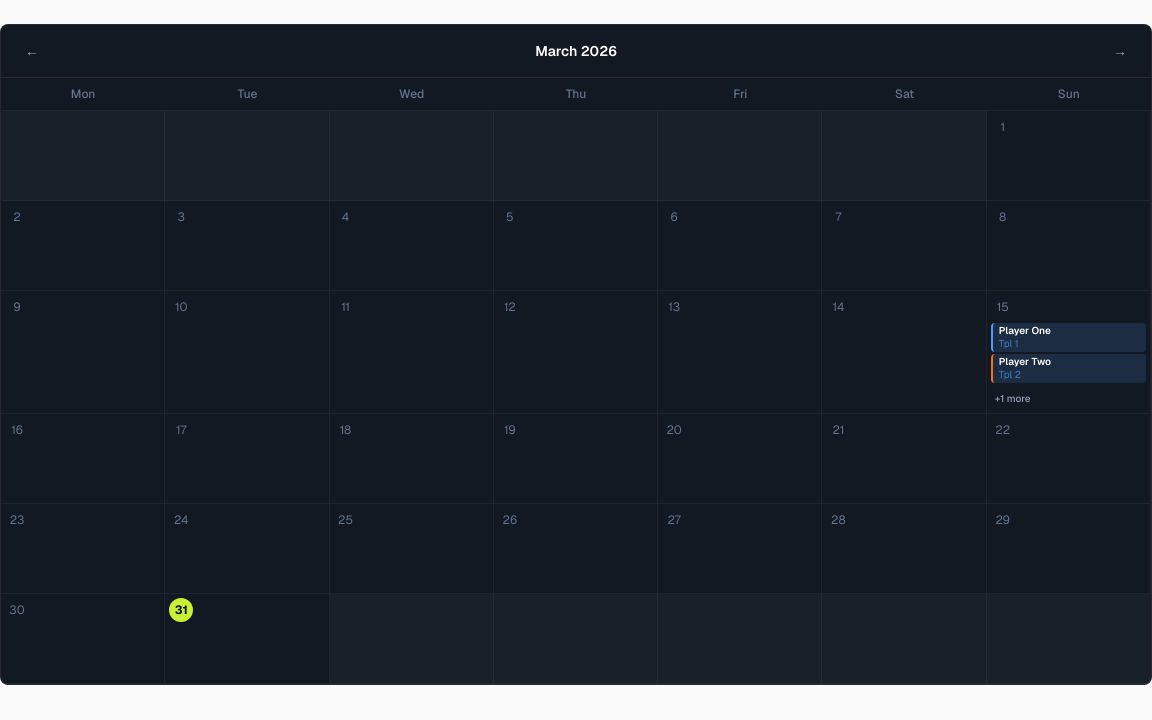
Scenario: CalendarView — overflow (+N more) › popover shows status badges
Click the button "+1 more" at (1068, 398), box [991, 389, 1146, 408]
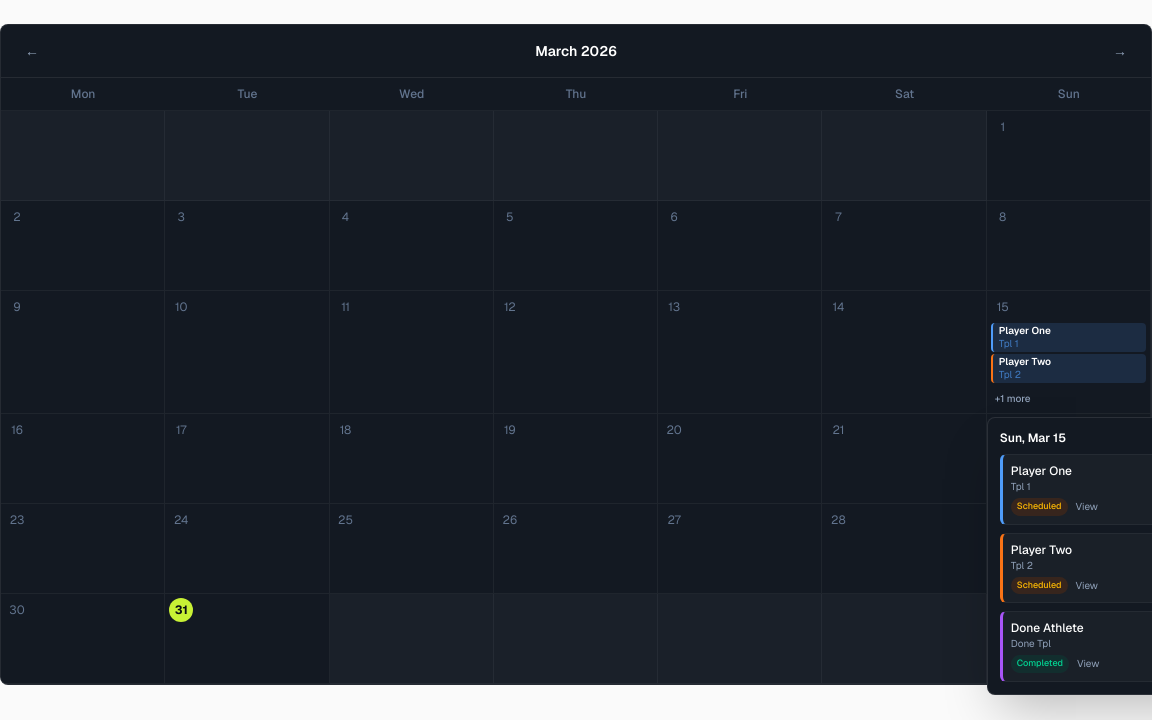
Now the text "Completed" is shown, box [1011, 655, 1069, 672]
